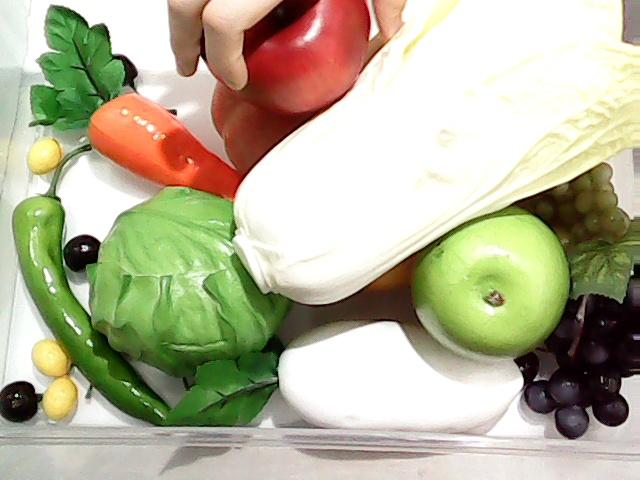apple: (232, 0, 372, 116), (440, 212, 560, 344)
cabbage: (86, 180, 290, 368)
carrot: (29, 4, 248, 202)
grape: (523, 222, 640, 441)
mango: (361, 245, 423, 291)
napa cabbage: (226, 1, 638, 285)
peach: (213, 66, 347, 182)
pepper: (8, 172, 188, 422)
potato: (359, 21, 405, 71)
radish: (168, 319, 524, 445)
